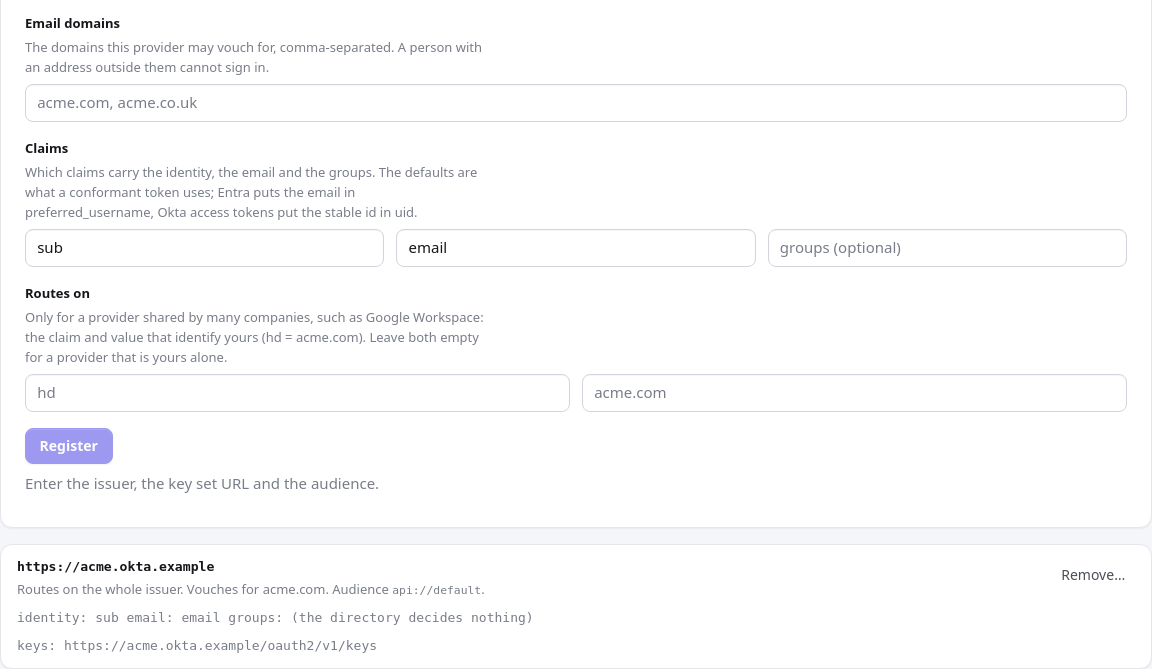
Test case: removing › renders the refusal for the provider you signed in through, verbatim
The width and height of the screenshot is (1152, 669).
(page scrolled)
Click the button "Remove…": [1093, 575] box x1=1051 y1=557 x2=1135 y2=593
(page scrolled)
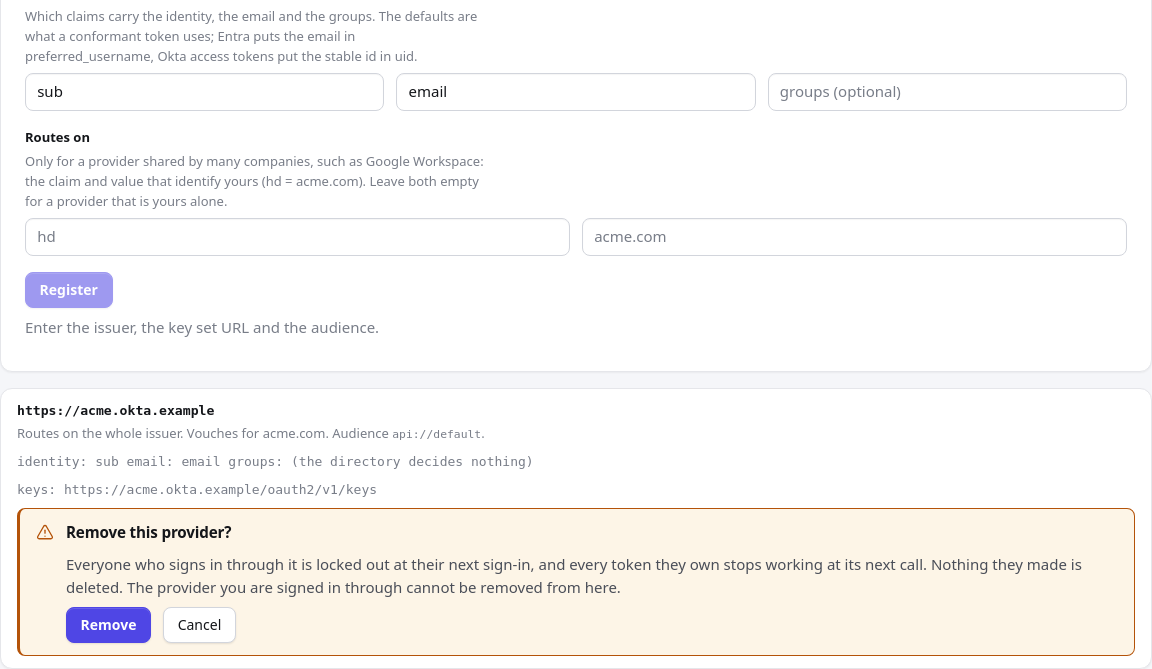
Click the button "Remove": [109, 625] box x1=66 y1=607 x2=151 y2=643
(page scrolled)
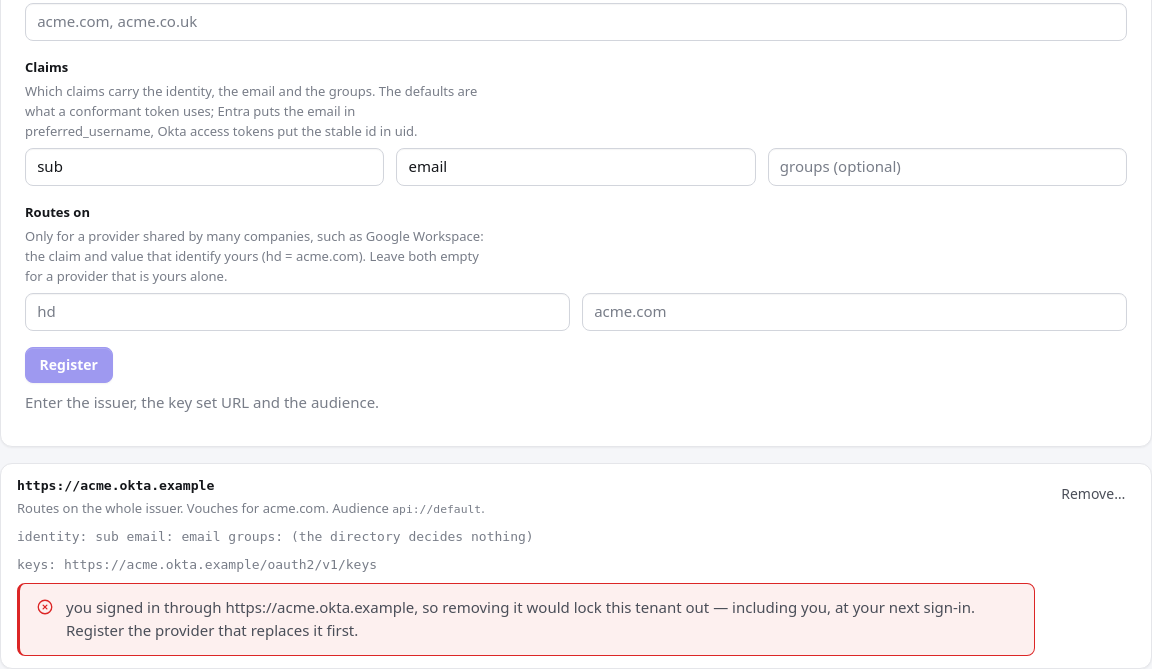
Now the text "would lock this tenant out" is shown, box x1=66 y1=597 x2=975 y2=640
